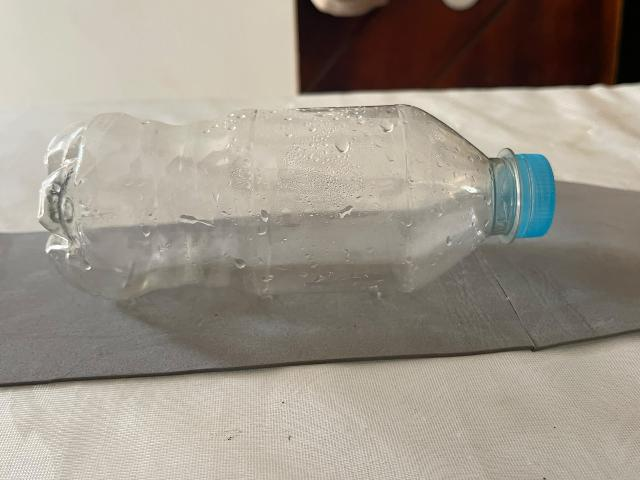PET: (5, 52, 585, 340)
